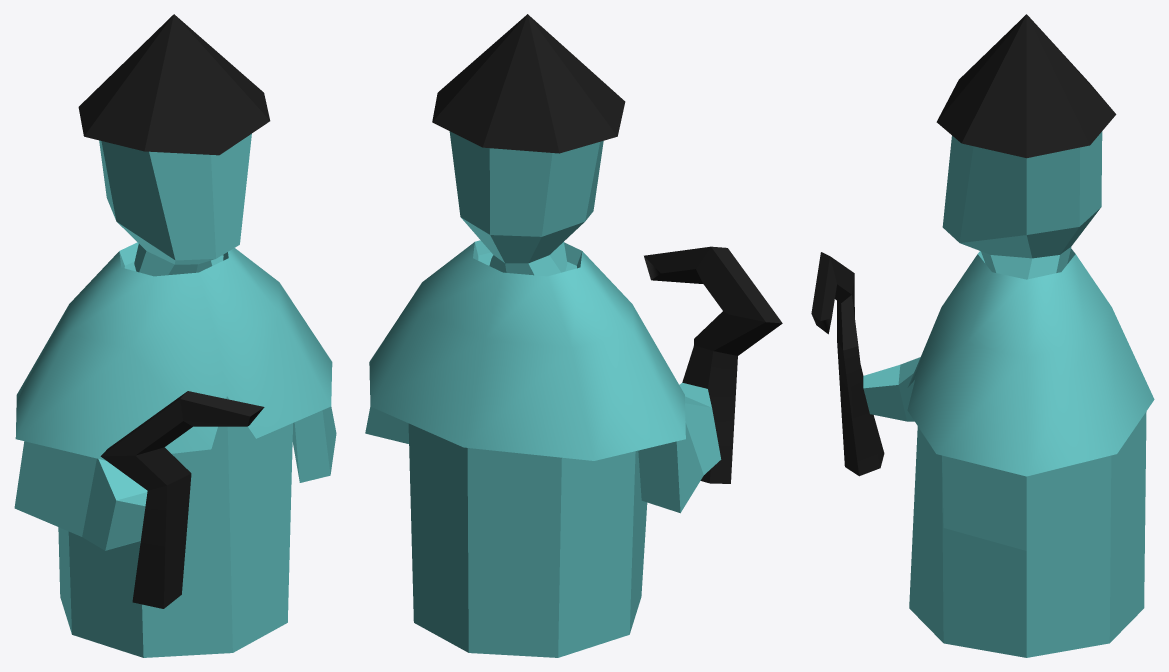
Rendered from VikingPawn.fbx.
3 views of the same model, side by side, from view 1: azimuth 30°, elevation 25°; view 2: azimuth 150°, elevation 25°; view 3: azimuth 270°, elevation 25° (orthographic).
Visible parts, largest first — view 1: Pawn; view 2: Pawn; view 3: Pawn.
Boxes of the visible parts, left/top/right/bottom form: Pawn: left=14, top=14, right=336, bottom=657; Pawn: left=365, top=14, right=782, bottom=657; Pawn: left=811, top=14, right=1154, bottom=657.
Size of the model in its own units: 3.2 by 5.58 by 2.92.
